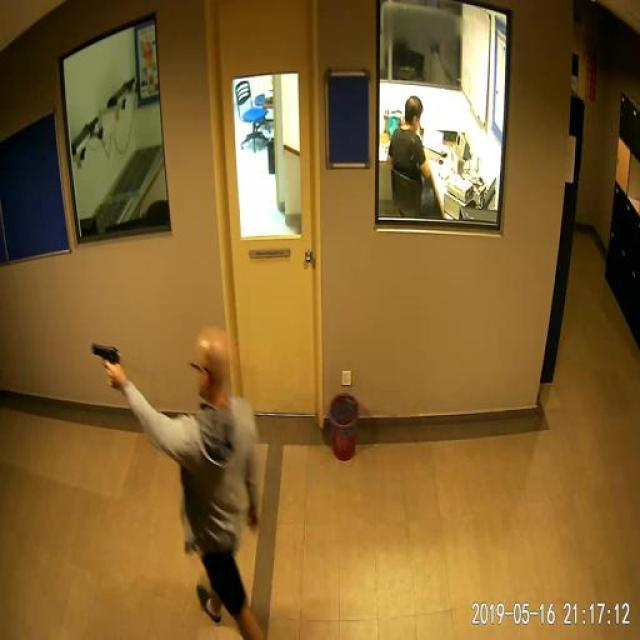Gun: (85, 337, 125, 380)
